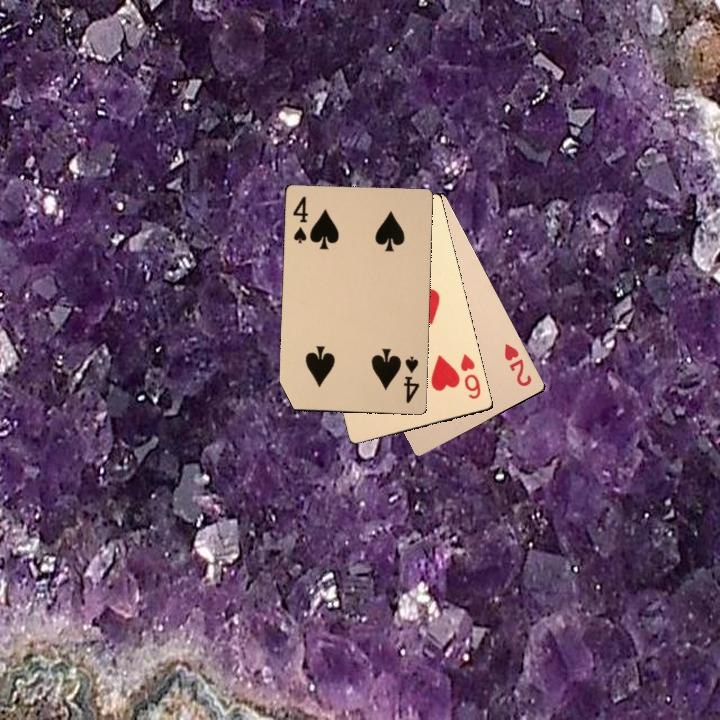2h: (500, 340, 534, 389)
4s: (289, 192, 311, 246), (400, 352, 422, 405)
6h: (456, 351, 483, 401)
